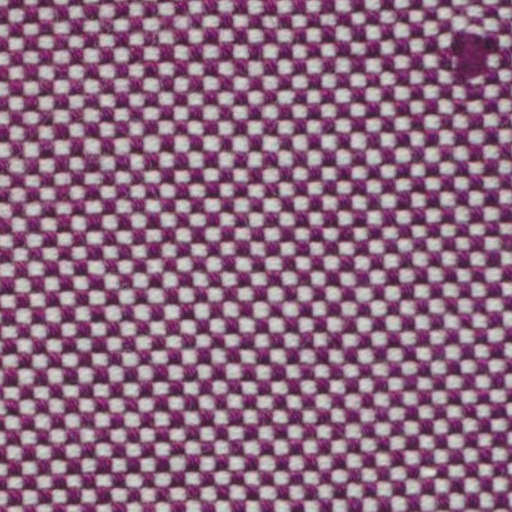MianQiu: (412, 15, 505, 110)
